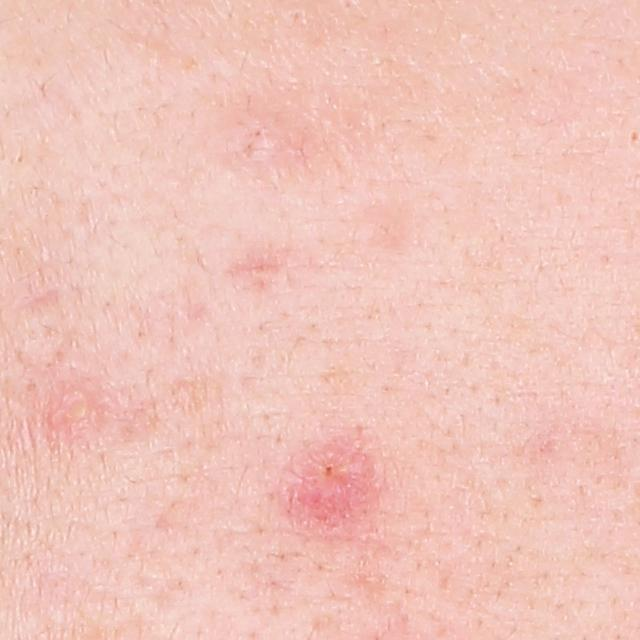papule: (296, 441, 379, 526)
